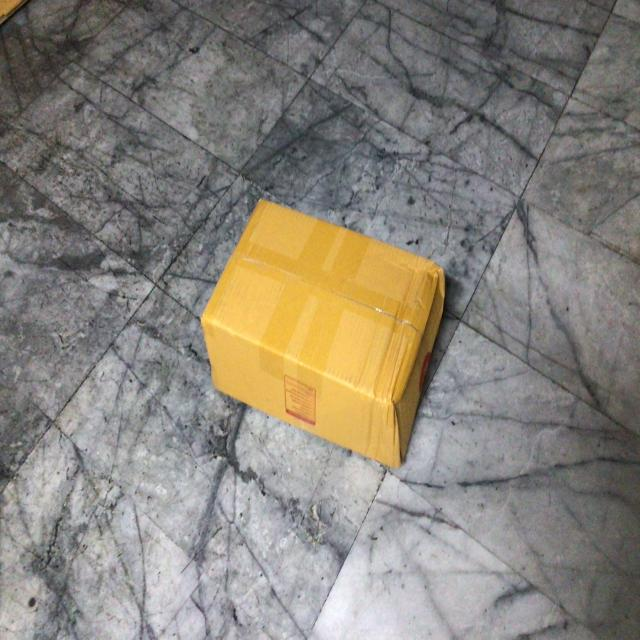cardboard: (200, 201, 438, 472)
